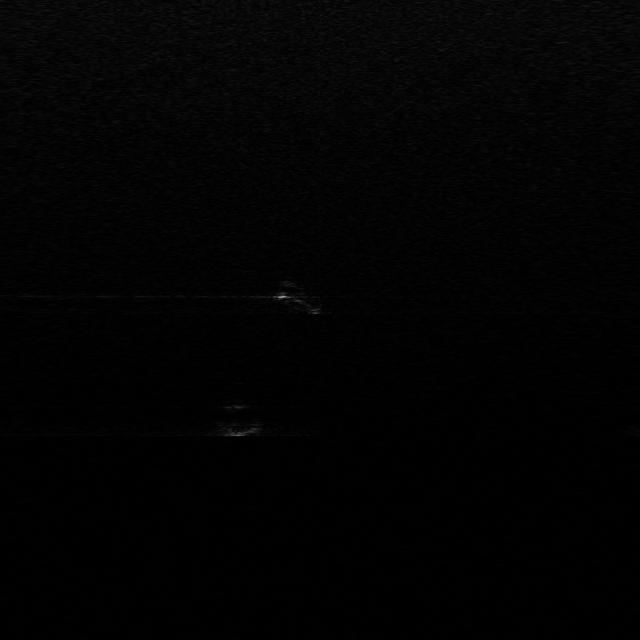ball: (216, 402, 264, 436)
tyre: (278, 280, 326, 314)
